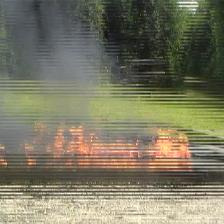fire: (23, 122, 193, 164)
